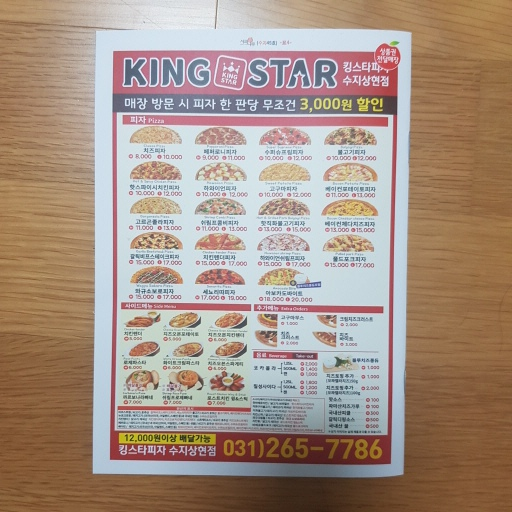Paper_2: (87, 22, 417, 489)
